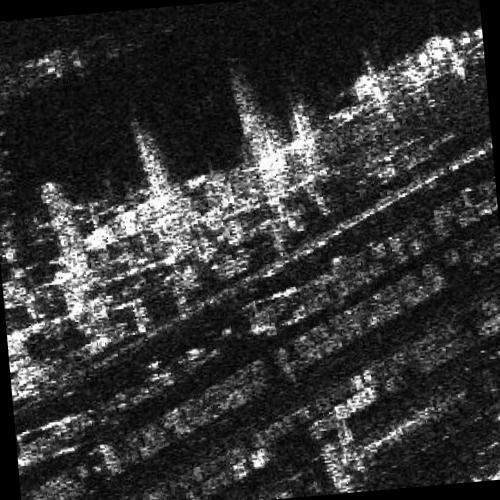ship: (79, 166, 227, 254), (354, 36, 457, 99)
